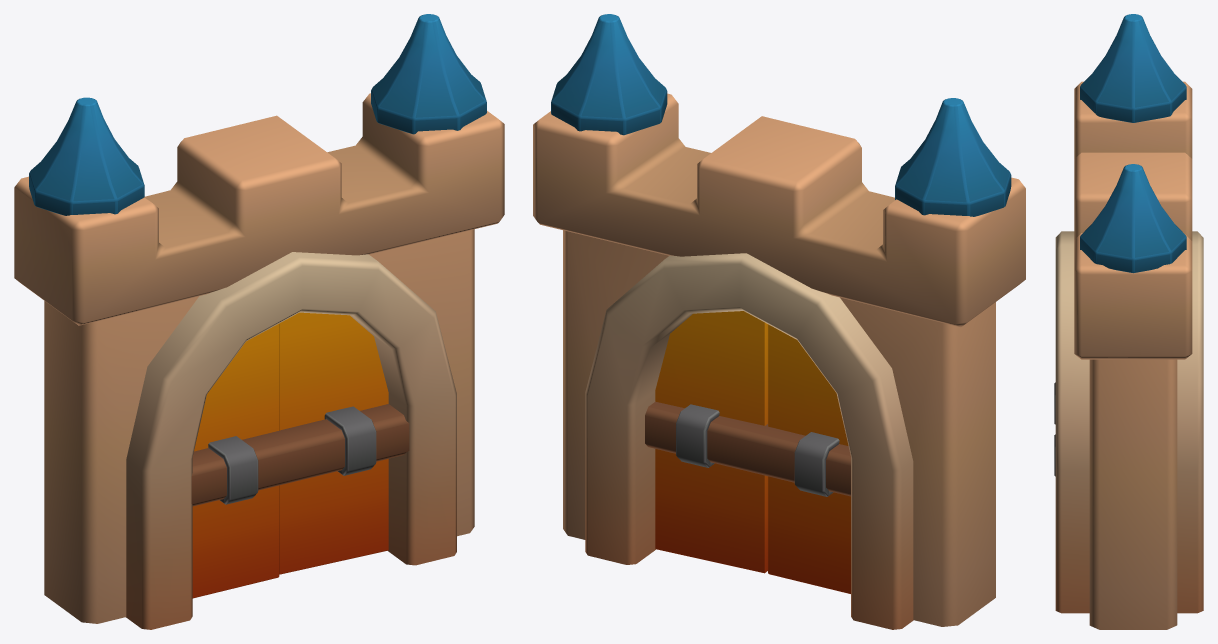
Rendered from Entrance_3.fbx.
3 renders of one model, left to right at view 1: azimuth 30°, elevation 25°; view 2: azimuth 150°, elevation 25°; view 3: azimuth 270°, elevation 25°, orthographic. The views are drawn at different scales.
Visible parts, largest first — view 1: Entrance_3, EntranceDoor_1.001, EntranceDoor_2.001, Woodenlocker_1.001; view 2: Entrance_3, EntranceDoor_1.001, EntranceDoor_2.001, Cube.001; view 3: Entrance_3.
Boxes of the visible parts, left/top/right/bottom form: Entrance_3: left=14, top=14, right=504, bottom=629; EntranceDoor_1.001: left=279, top=312, right=388, bottom=574; EntranceDoor_2.001: left=192, top=324, right=279, bottom=598; Woodenlocker_1.001: left=191, top=404, right=409, bottom=506; Entrance_3: left=533, top=14, right=1025, bottom=629; EntranceDoor_1.001: left=655, top=311, right=767, bottom=573; EntranceDoor_2.001: left=768, top=324, right=850, bottom=593; Cube.001: left=645, top=401, right=850, bottom=496; Entrance_3: left=1055, top=14, right=1203, bottom=629.
Size of the model in its own units: 447 by 482 by 144.
